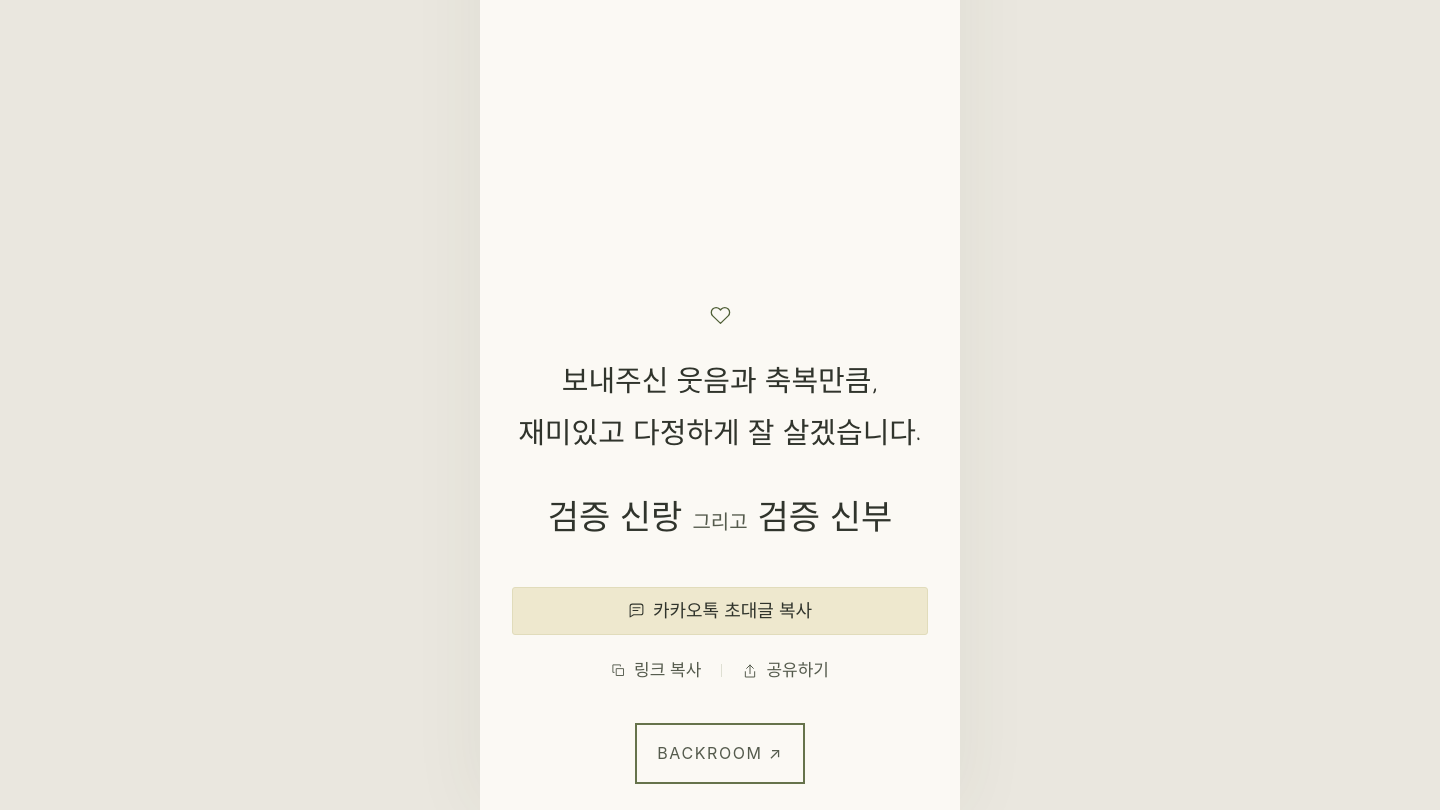
BACKROOM 코드 입력과 한 음원의 전환 › 코드 입력 창을 취소하면 원래 음악과 재생 위치·포커스를 그대로 유지한다
This screenshot has width=1440, height=810.
Step 1. Click the button with aria-label "시크릿 코드 입력" → [720, 753], box [641, 729, 799, 778]
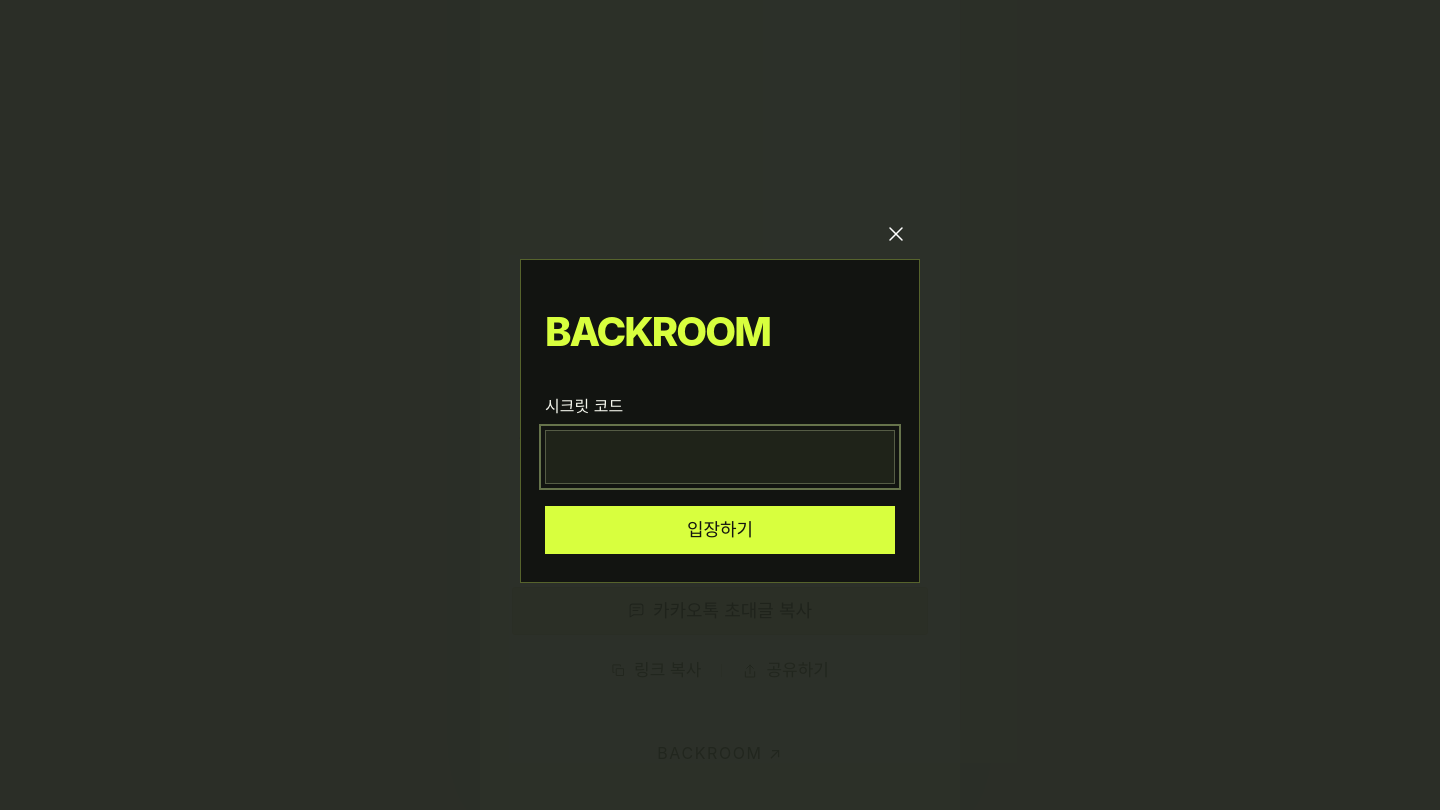
Step 2. Press Escape in the password field labelled "시크릿 코드", box [545, 430, 895, 484]
(page scrolled)
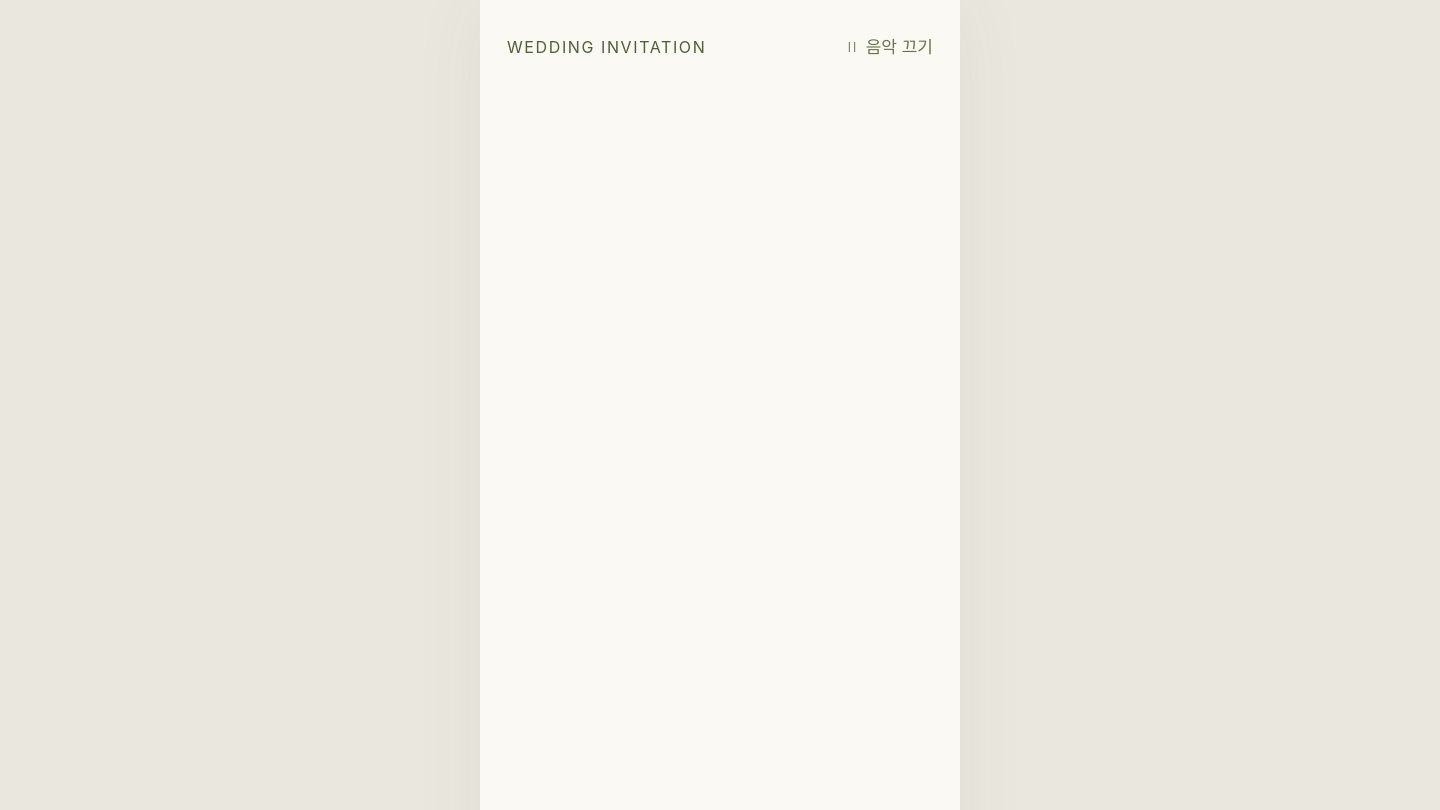
Check: the button "음악 끄기" is shown, box [844, 23, 933, 71]
Check: the dialog is gone
